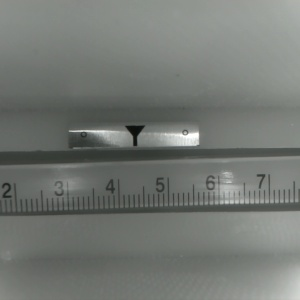2: (0, 182, 11, 198)
3: (53, 181, 63, 196)
4: (105, 179, 115, 194)
5: (154, 177, 164, 193)
6: (205, 175, 215, 190)
7: (255, 174, 265, 189)
finger: (123, 126, 145, 147)
